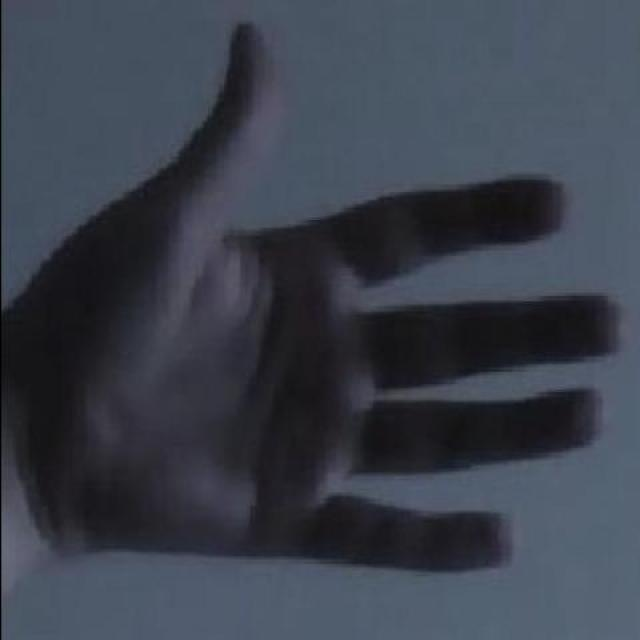Open Hand: (0, 20, 625, 618)
